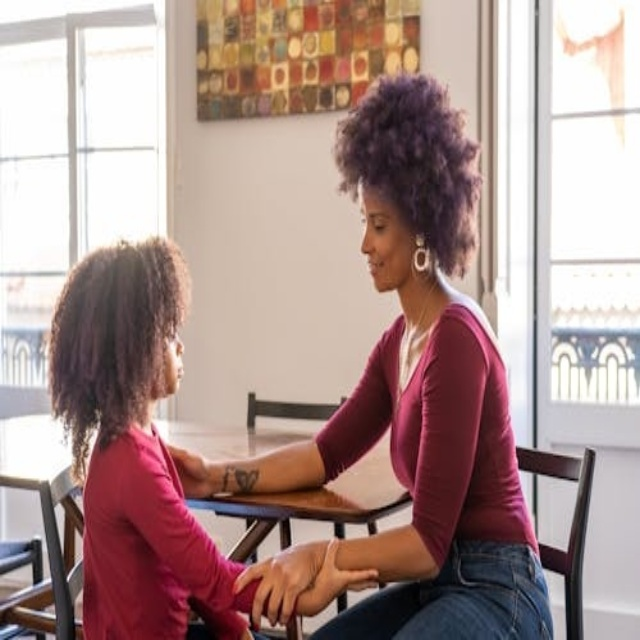Sin_gafas: (353, 183, 393, 240)
Sin_guantes: (237, 536, 356, 627)
Sin_mascara: (362, 252, 393, 288), (166, 352, 189, 392)
